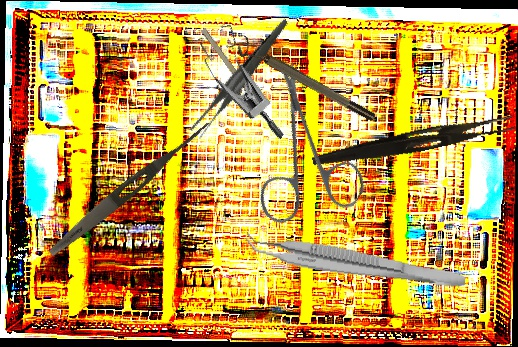Dressing Forceps: (45, 115, 214, 261), (167, 18, 315, 141), (311, 108, 515, 176)
Fixation Ring: (234, 35, 378, 130)
Iris Scissors: (208, 58, 401, 254)
Needle Holder: (185, 26, 272, 136)
Speculum: (178, 14, 318, 141)
Tissue Forceps: (242, 229, 469, 291)
